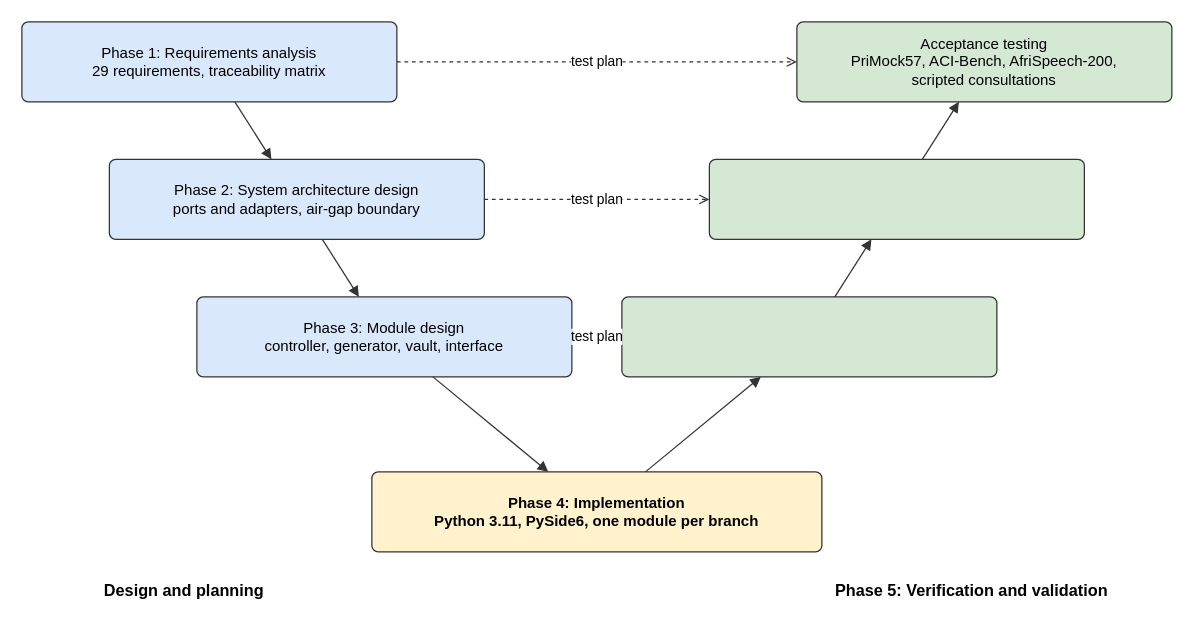
This 1194x631 diagram has some shape labels left out. Each missing label, with the box of its shape:
Integration testing controller with real model outputs, end-to-end runs: (708, 158, 1084, 239)
Unit testing pytest on Windows CI (Python 3.11 and 3.12): (621, 296, 997, 377)
